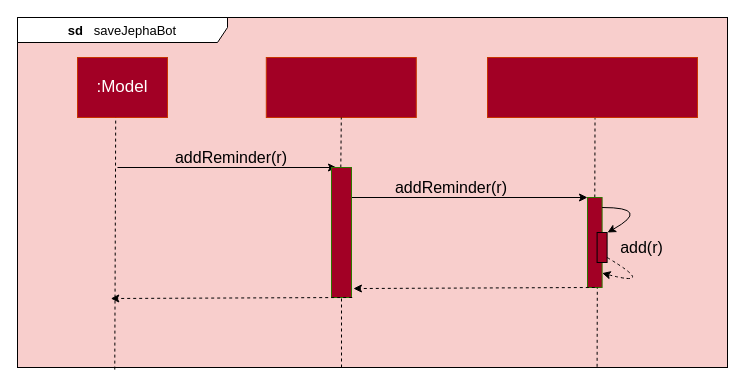
The diagram is 745 pixels wide and 389 high, and some of its shapes have lost their labels. The centre of each missing label's shape, as x and y in pixels:
":JelphaBot" belongs at (x=340, y=87).
":UniqueReminderList" belongs at (x=592, y=87).
